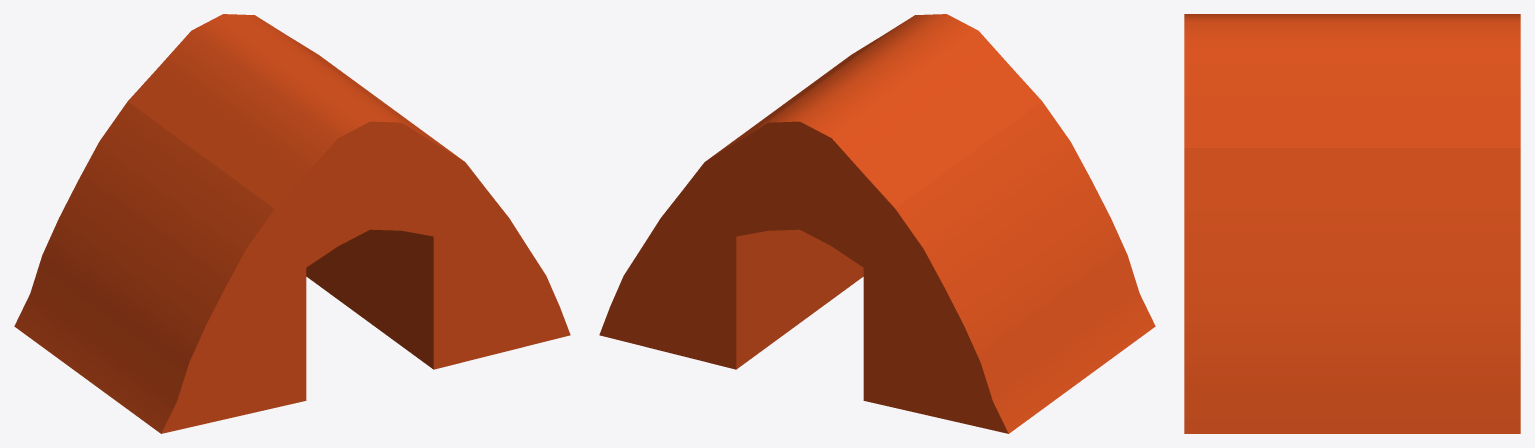
The model's file is Tunnel 3.fbx.
3 renders of one model, left to right at view 1: azimuth 30°, elevation 25°; view 2: azimuth 150°, elevation 25°; view 3: azimuth 270°, elevation 25°, orthographic. The views are drawn at different scales.
Visible parts, largest first — view 1: Tunnel 3; view 2: Tunnel 3; view 3: Tunnel 3.
Boxes of the visible parts, bbox=[...] form: Tunnel 3: bbox=[14, 14, 570, 433]; Tunnel 3: bbox=[599, 14, 1155, 433]; Tunnel 3: bbox=[1184, 14, 1520, 433].
Bounding box in the file's own units: 64.38 × 39.61 × 40.
Materials: 1 (1 with a texture image).
